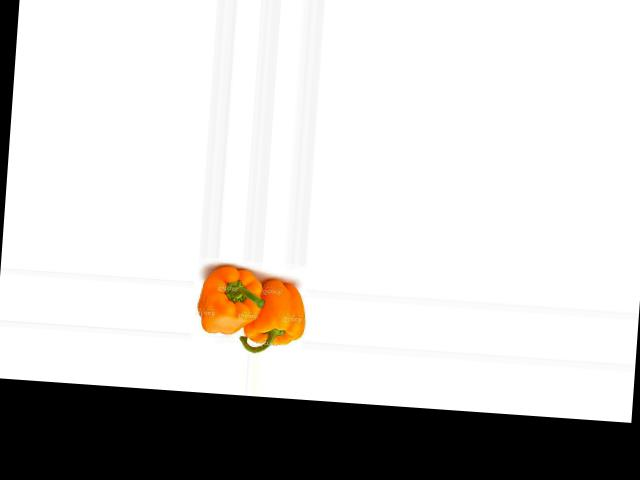bell_pepper: (236, 276, 309, 353)
